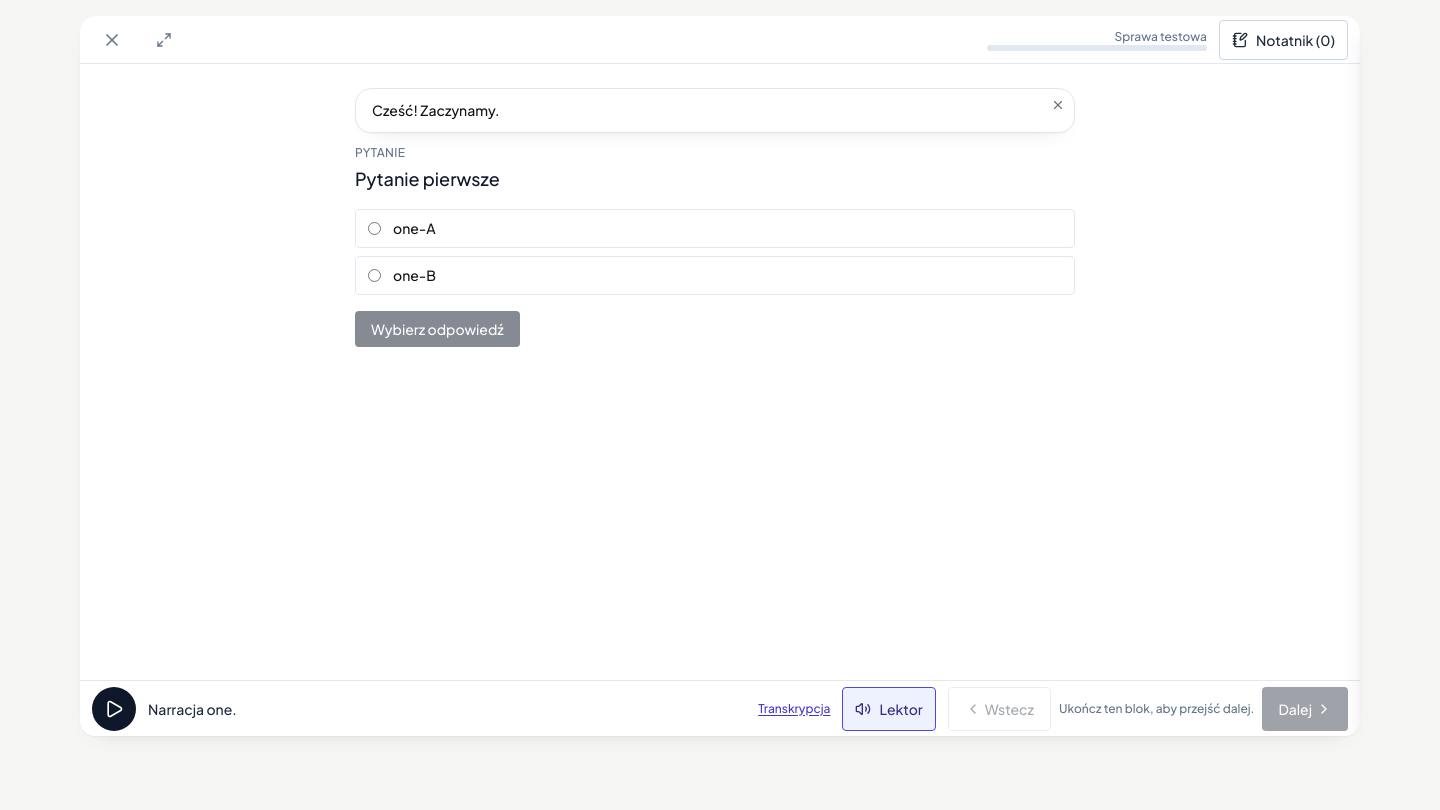
CoursePlayer: powłoka (postęp, nawigacja, notatnik, lektor) › Wstecz / Dalej (podgląd tylko do odczytu) › wynik bloku (feedback): "Wstecz" nieaktywne, „Dalej” w pasku aktywny - jedyny przycisk dalej (D-106)
Click the radio button labelled "one-A": (374, 229) [368,222,381,235]
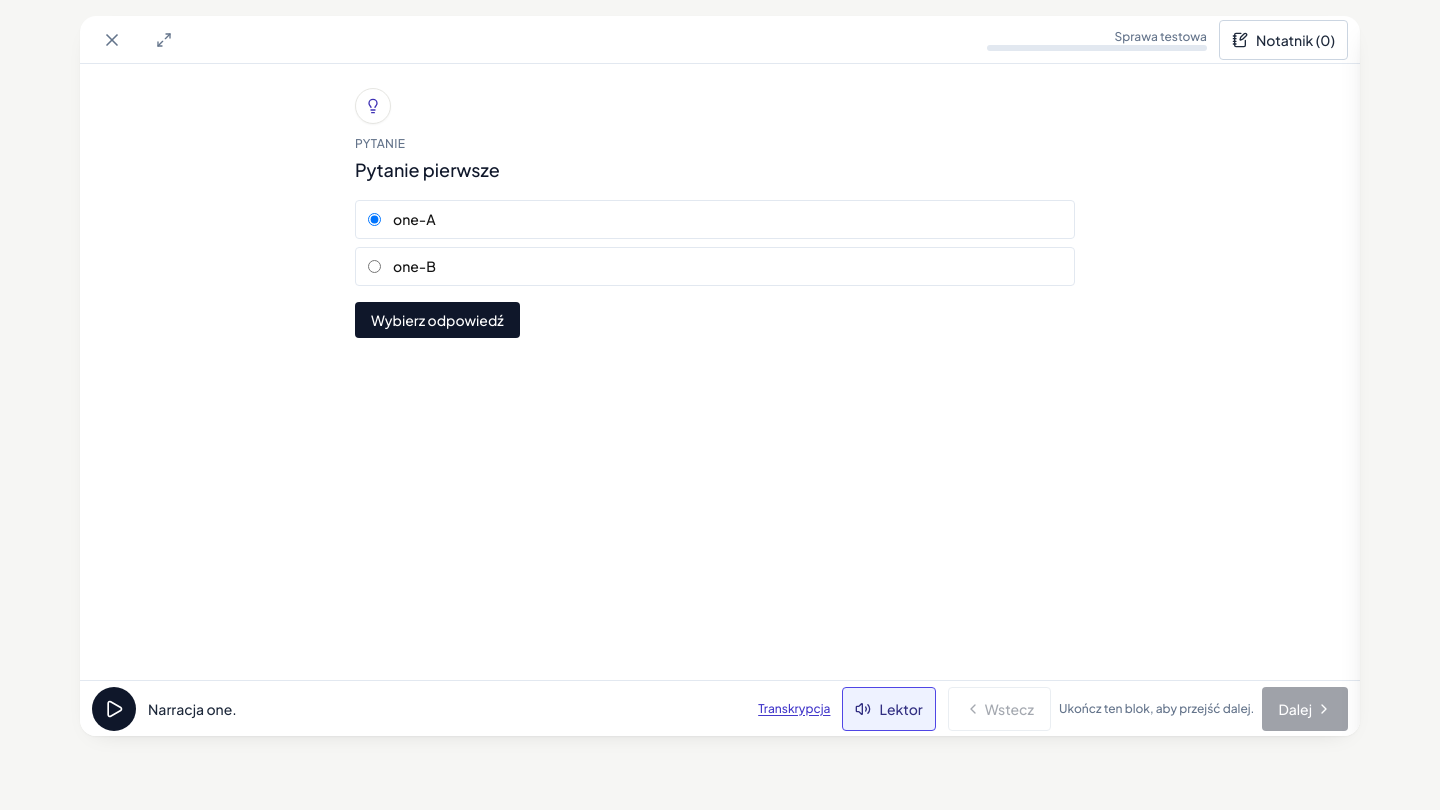
Click the button "Wybierz odpowiedź": (437, 320) [355,302,520,338]
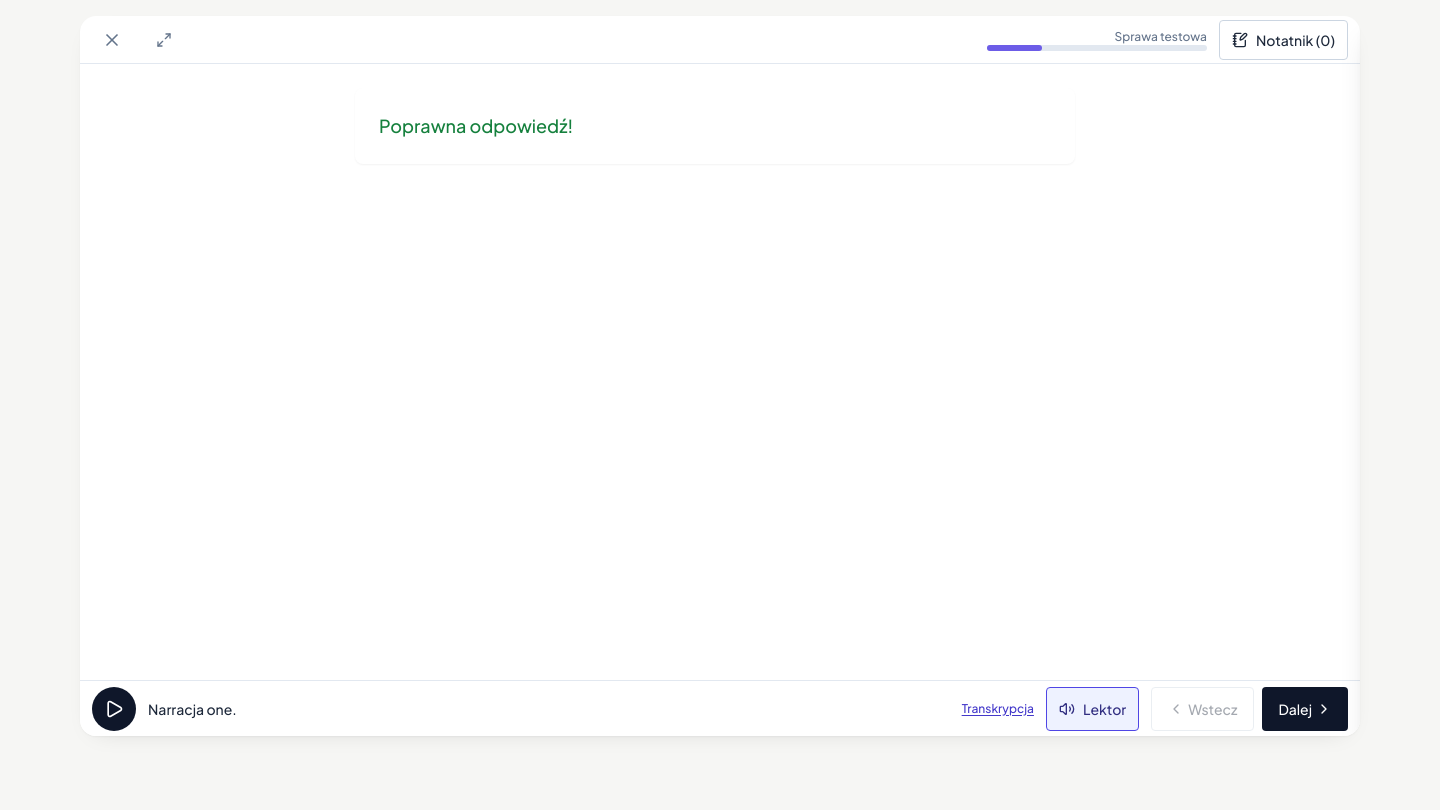
Check: the button "Wstecz" is disabled, box [1151,686,1254,730]
Check: the text "Poprawna odpowiedź!" is shown, box [379,114,573,137]
Check: the button "Dalej" is enabled, box [1262,686,1348,730]
